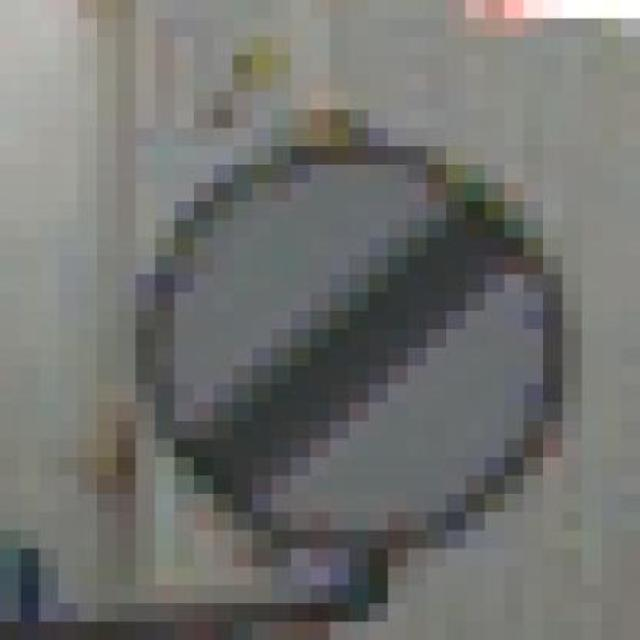End of all speed and passing limits: (116, 91, 601, 548)
